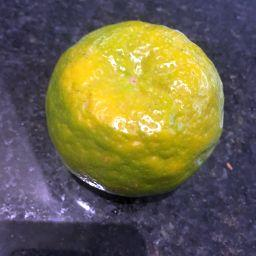orange: (44, 19, 226, 199)
